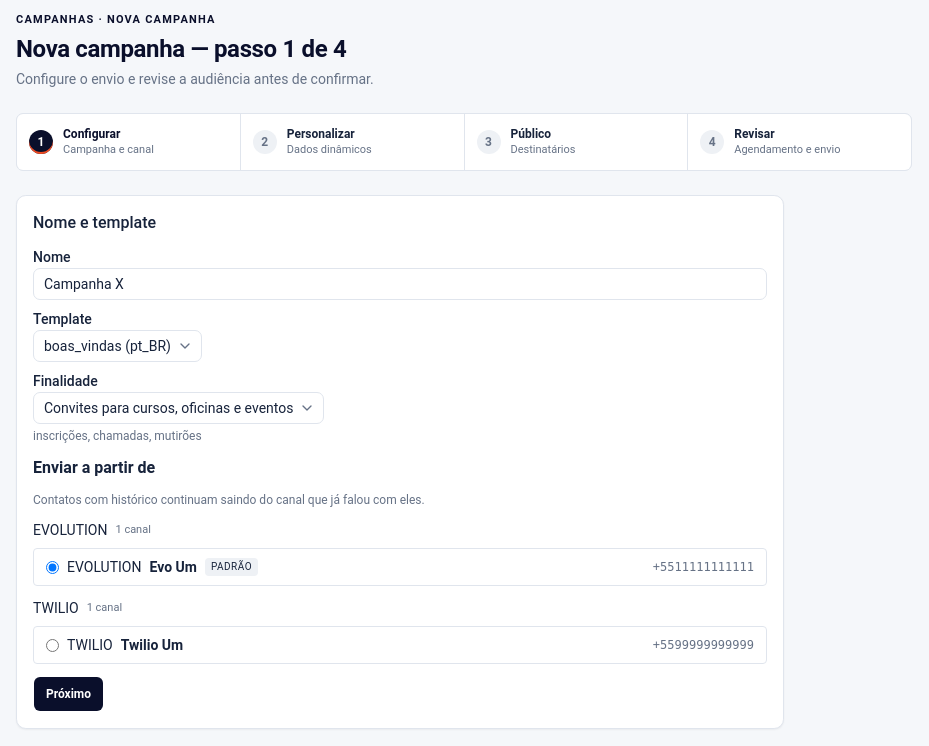
Test case: NewCampaignPage — multi-provider channel selection › clears the selected template when switching to a channel of another provider
Expected: the button "Próximo" is enabled, [33,676,104,712]
Note: Switch to the Twilio channel (a different provider).
Click the radio button labelled "TWILIO Twilio Um +5599999999999" at (52, 645), box [46,638,59,652]
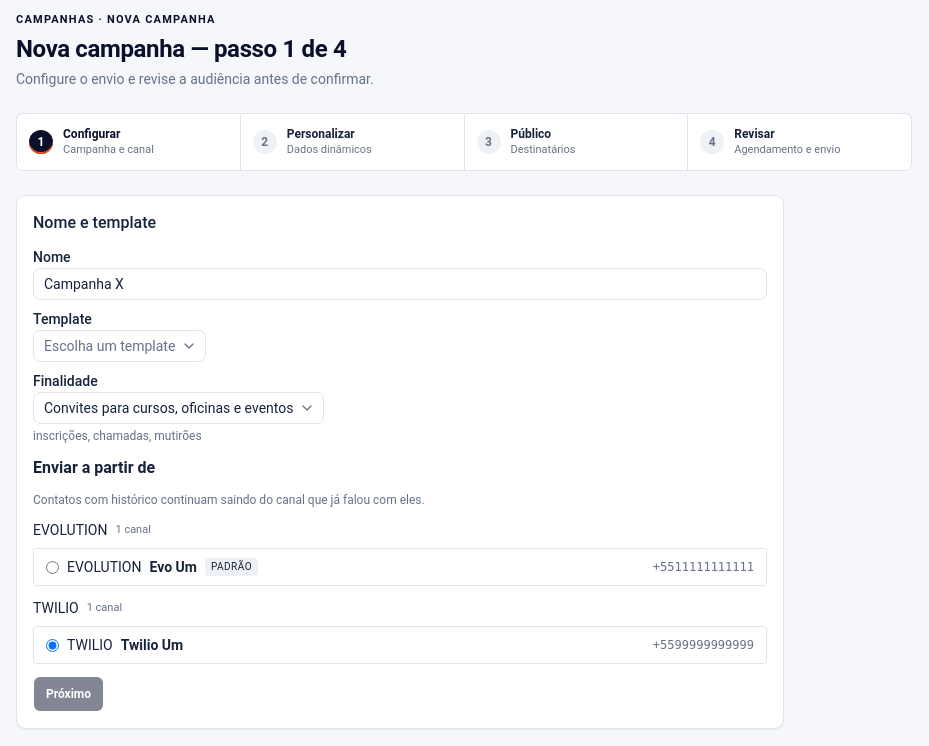
Result: the button "Próximo" is disabled at [33,676,104,712]
